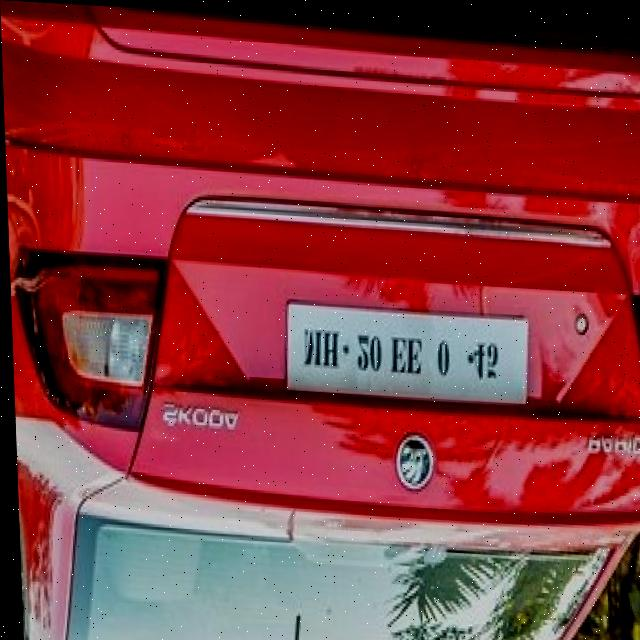plate: (283, 301, 529, 401)
